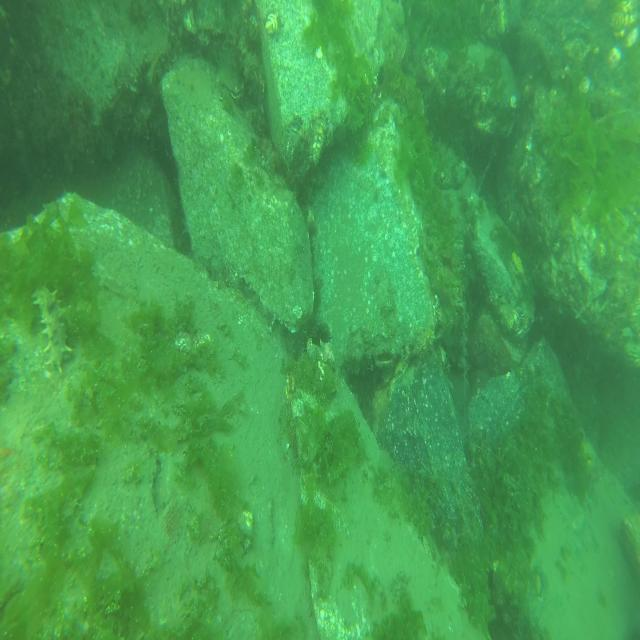echinus: (301, 315, 332, 353)
holothurian: (32, 282, 73, 376)
